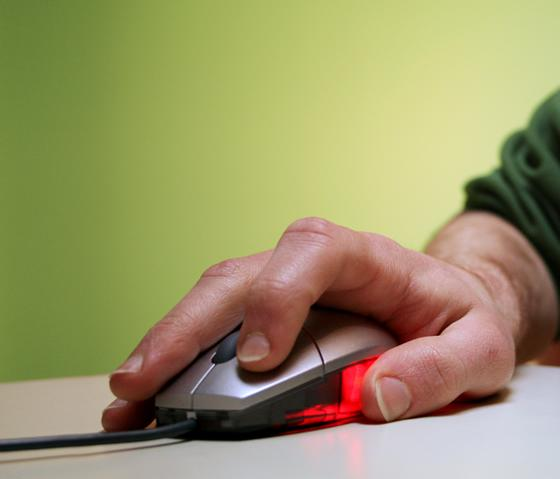no-phone: (102, 214, 522, 437)
